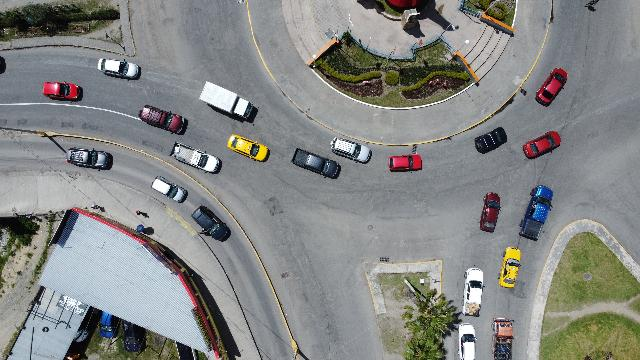Vehiculo: (519, 185, 553, 241), (170, 142, 220, 174), (291, 148, 339, 178), (191, 205, 231, 241), (138, 105, 184, 134), (227, 134, 269, 162), (536, 68, 566, 106), (331, 137, 372, 164), (523, 131, 561, 159), (65, 148, 113, 170), (462, 268, 484, 316), (151, 176, 187, 204), (492, 317, 514, 359), (479, 192, 501, 232), (498, 248, 520, 288), (98, 58, 138, 80), (475, 127, 507, 153), (122, 320, 146, 352), (44, 81, 82, 101), (458, 324, 477, 360), (388, 154, 422, 172), (100, 312, 120, 338)
